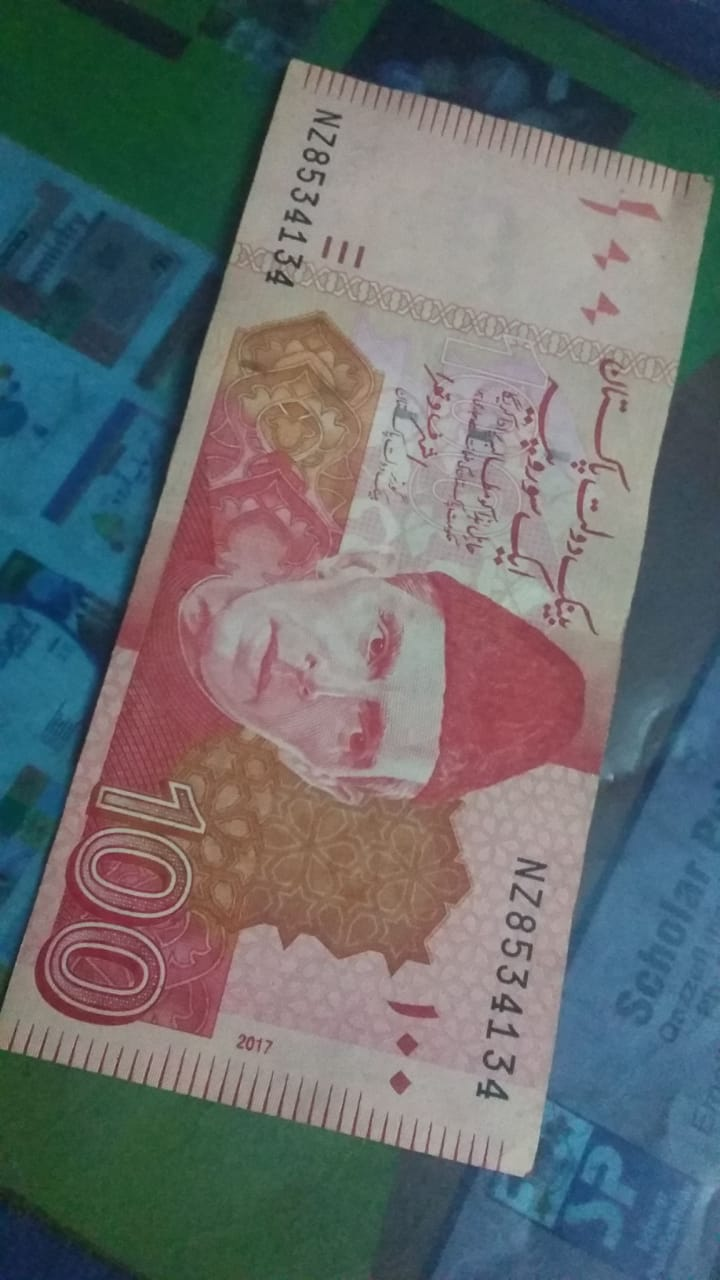100 rupee: (17, 54, 717, 1179)
